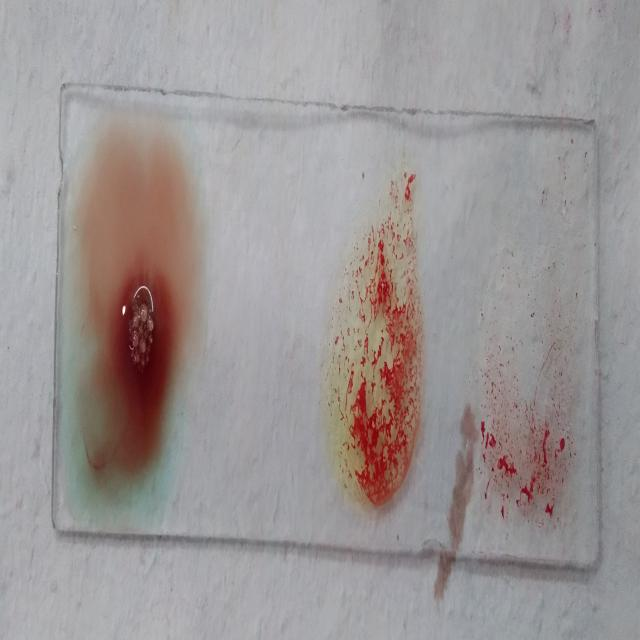B: (337, 177, 420, 523)
D: (472, 227, 582, 540)
